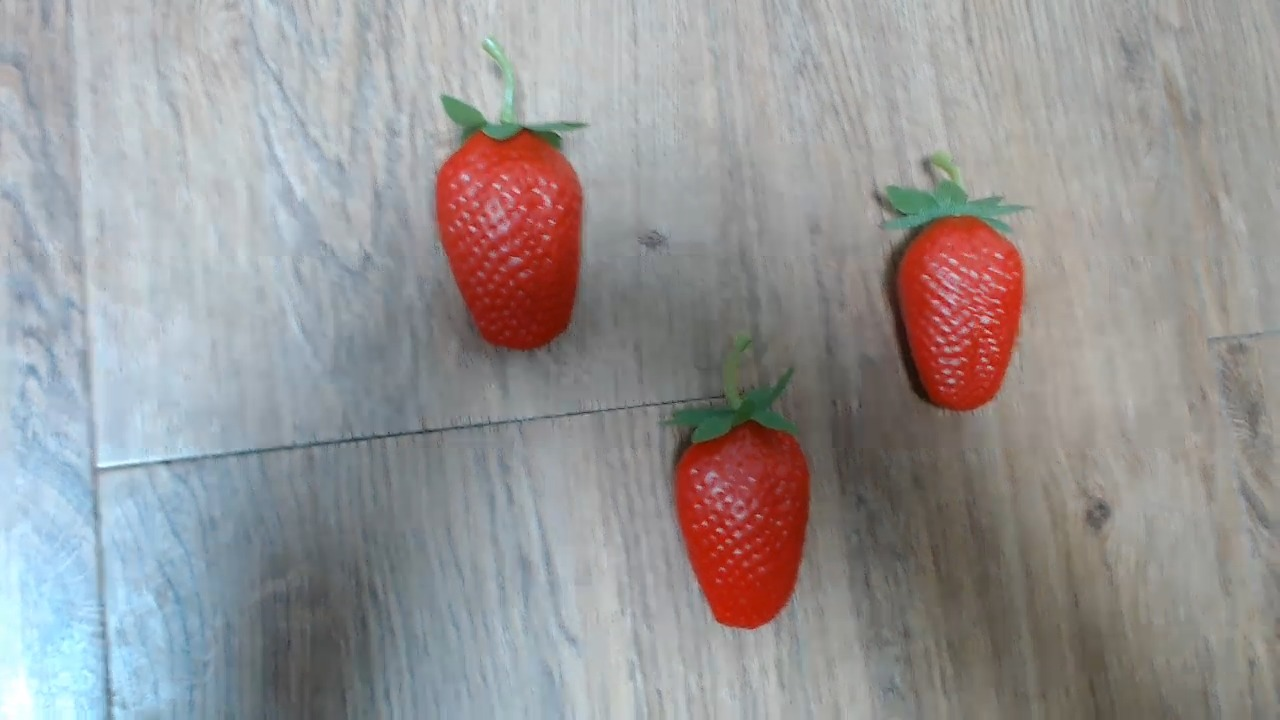strawberry: (427, 94, 591, 356), (866, 181, 1031, 413), (669, 408, 811, 629)
